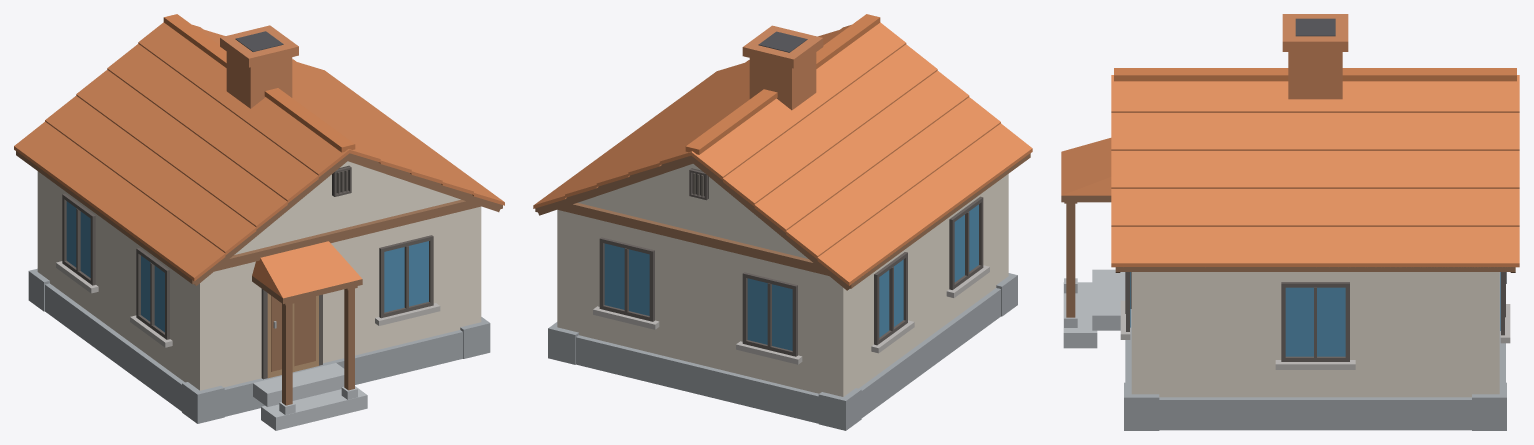
Rendered from mills q4 worker house a.fbx.
3 renders of one model, left to right at view 1: azimuth 30°, elevation 25°; view 2: azimuth 150°, elevation 25°; view 3: azimuth 270°, elevation 25°, orthographic. The views are drawn at different scales.
Visible parts, largest first — view 1: Building_Lower_Walls; view 2: Building_Lower_Walls; view 3: Building_Lower_Walls.
Part boxes in pixels (x1,y1,x2,y2): Building_Lower_Walls: (14,14,504,430); Building_Lower_Walls: (533,14,1032,430); Building_Lower_Walls: (1061,14,1519,430).
Bounding box in the file's own units: 508 × 446 × 573.
